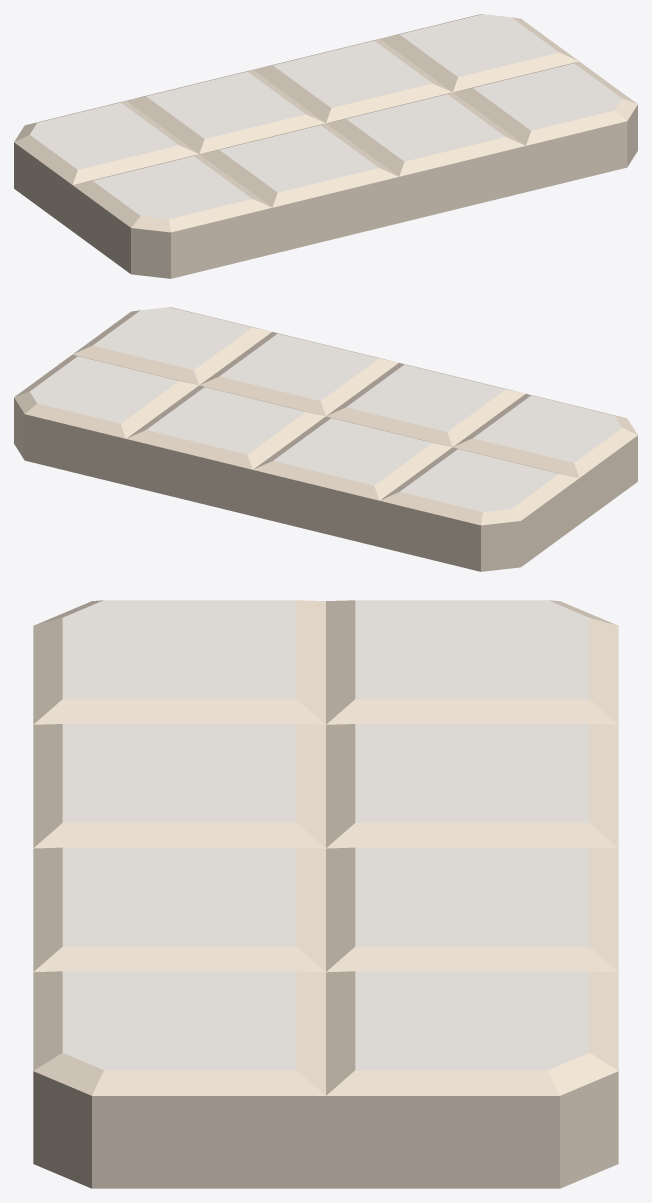
File: Puzzle_Sliding_Platform_1x2.glb
3 renders of one model, top to bottom at view 1: azimuth 30°, elevation 25°; view 2: azimuth 150°, elevation 25°; view 3: azimuth 270°, elevation 25°, orthographic. The views are drawn at different scales.
Parts seen in each view (by area): view 1: Puzzle_Sliding_Platform_1x2; view 2: Puzzle_Sliding_Platform_1x2; view 3: Puzzle_Sliding_Platform_1x2.
Part boxes in pixels (x1,y1,x2,y2): Puzzle_Sliding_Platform_1x2: (14, 14, 637, 278); Puzzle_Sliding_Platform_1x2: (14, 307, 637, 571); Puzzle_Sliding_Platform_1x2: (33, 600, 618, 1188).
Size of the model in its own units: 2 by 0.3 by 1.
